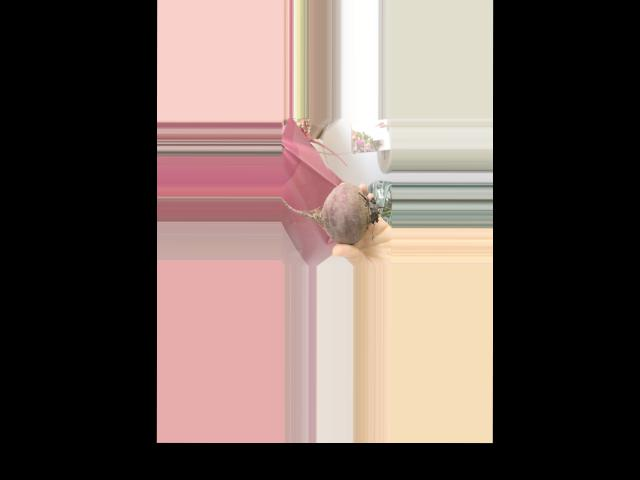beet: (281, 182, 392, 244)
